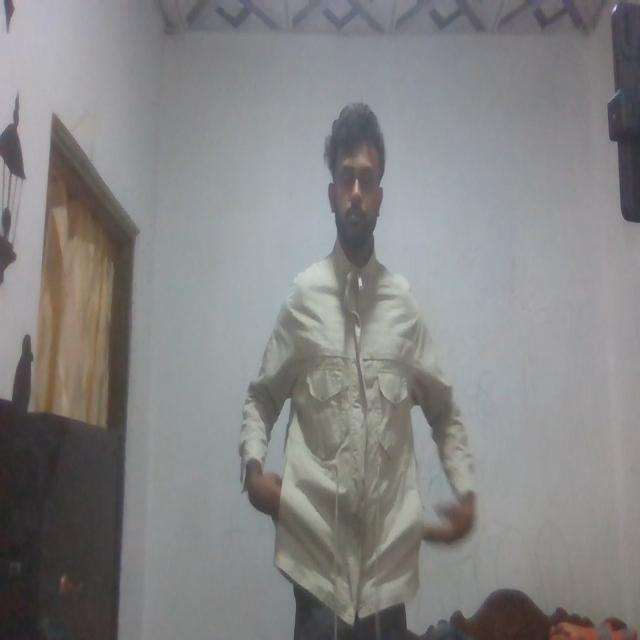Jacket_Wearer: (248, 250, 476, 569)
Person: (244, 90, 477, 640)
